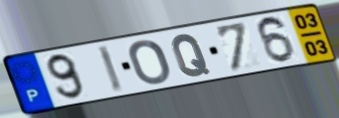6: (256, 14, 300, 67)
7: (214, 19, 250, 73)
9: (45, 52, 86, 102)
I: (94, 43, 126, 95)
O: (127, 38, 173, 86)
Q: (170, 32, 213, 78)
